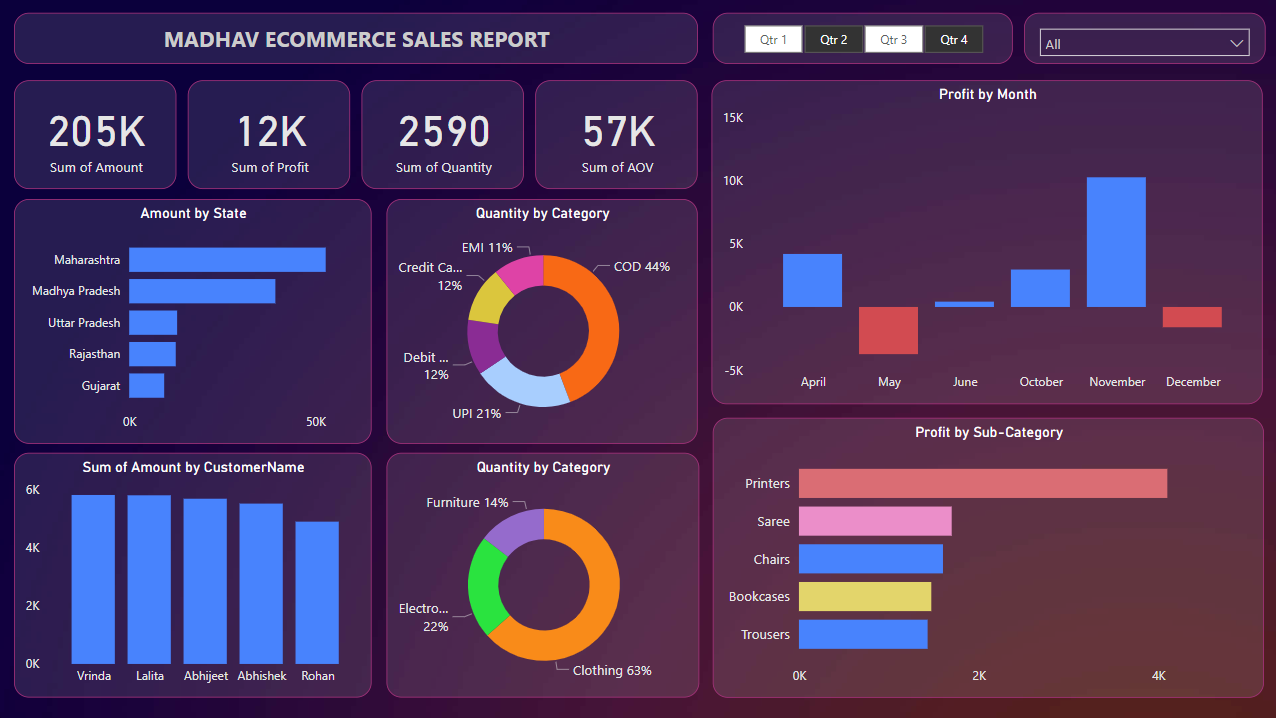

Layout of this report page (visuals, bound fields, positions):
{"tool":"powerbi","page":{"name":"Page 1","canvas":[1280,720],"ordinal":0},"visuals":[{"type":"textbox","box":[15,13.8,683.8,51.2],"z":0},{"type":"columnChart","title":"Profit by Month","fields":{"Category":["Orders.Order Date.Variation.Date Hierarchy.Month"],"Y":["Details.Profit"]},"box":[712.5,81.2,551.2,323.8],"z":1000},{"type":"barChart","title":"Profit by Sub-Category","fields":{"Category":["Details.Sub-Category"],"Y":["Details.Profit"]},"box":[713.7,419,551.2,280],"z":2000},{"type":"donutChart","title":"Quantity by Category","fields":{"Category":["Details.Category"],"Y":["Details.Quantity"]},"box":[387.5,453.8,312.5,245],"z":3000},{"type":"donutChart","title":"Quantity by Category","fields":{"Y":["Details.Quantity"],"Category":["Details.PaymentMode"]},"box":[387.5,200,311.2,245],"z":4000},{"type":"card","fields":{"Values":["Details.Amount"]},"box":[15,81.5,162.5,108.8],"z":5000},{"type":"card","fields":{"Values":["Details.Profit"]},"box":[188.8,81.5,162.5,108.8],"z":6000},{"type":"card","fields":{"Values":["Details.Quantity"]},"box":[362.5,81.5,162.5,108.8],"z":7000},{"type":"card","fields":{"Values":["Details.AOV"]},"box":[536.3,81.7,162.5,108.8],"z":8000},{"type":"barChart","title":"Amount by State","fields":{"Category":["Orders.State"],"Y":["Details.Amount"]},"box":[15,200,357.5,245],"z":9000},{"type":"columnChart","fields":{"Category":["Orders.CustomerName"],"Y":["Details.Amount"]},"box":[15,453.8,357.5,245],"z":10000},{"type":"slicer","fields":{"Values":["Orders.Order Date.Variation.Date Hierarchy.Quarter"]},"box":[713.8,13.8,300,51.2],"z":10001},{"type":"slicer","fields":{"Values":["Orders.State"]},"box":[1025,13.8,241.2,51.2],"z":10002}]}

Visuals, with their boxes in screenshot pixels (x1, y1, x2, y2), scaled from the page's 1280x720 canvas onto the 1276x718 screenshot:
textbox: crop(15, 14, 697, 65)
"Profit by Month" columnChart: crop(710, 81, 1260, 404)
"Profit by Sub-Category" barChart: crop(711, 418, 1261, 697)
"Quantity by Category" donutChart: crop(386, 453, 698, 697)
"Quantity by Category" donutChart: crop(386, 199, 697, 444)
card - Details.Amount: crop(15, 81, 177, 190)
card - Details.Profit: crop(188, 81, 350, 190)
card - Details.Quantity: crop(361, 81, 523, 190)
card - Details.AOV: crop(535, 81, 697, 190)
"Amount by State" barChart: crop(15, 199, 371, 444)
columnChart - Orders.CustomerName x Details.Amount: crop(15, 453, 371, 697)
slicer - Orders.Order Date.Variation.Date Hierarchy.Quarter: crop(712, 14, 1011, 65)
slicer - Orders.State: crop(1022, 14, 1262, 65)
